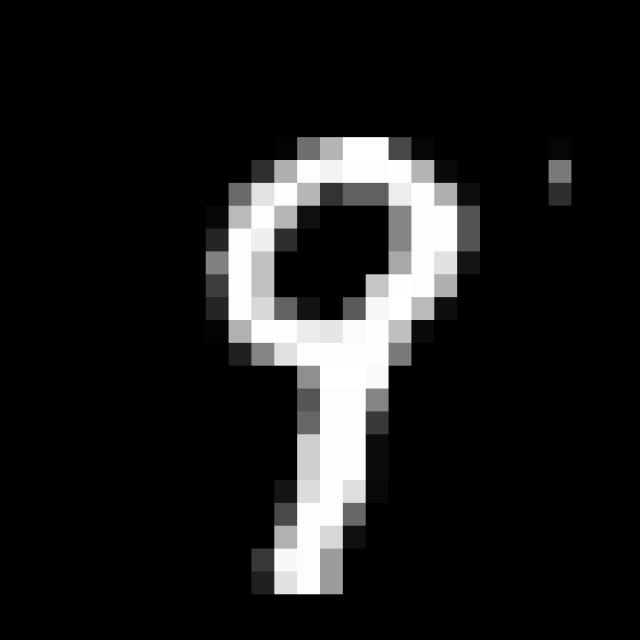nine -9-: (206, 128, 481, 610)
